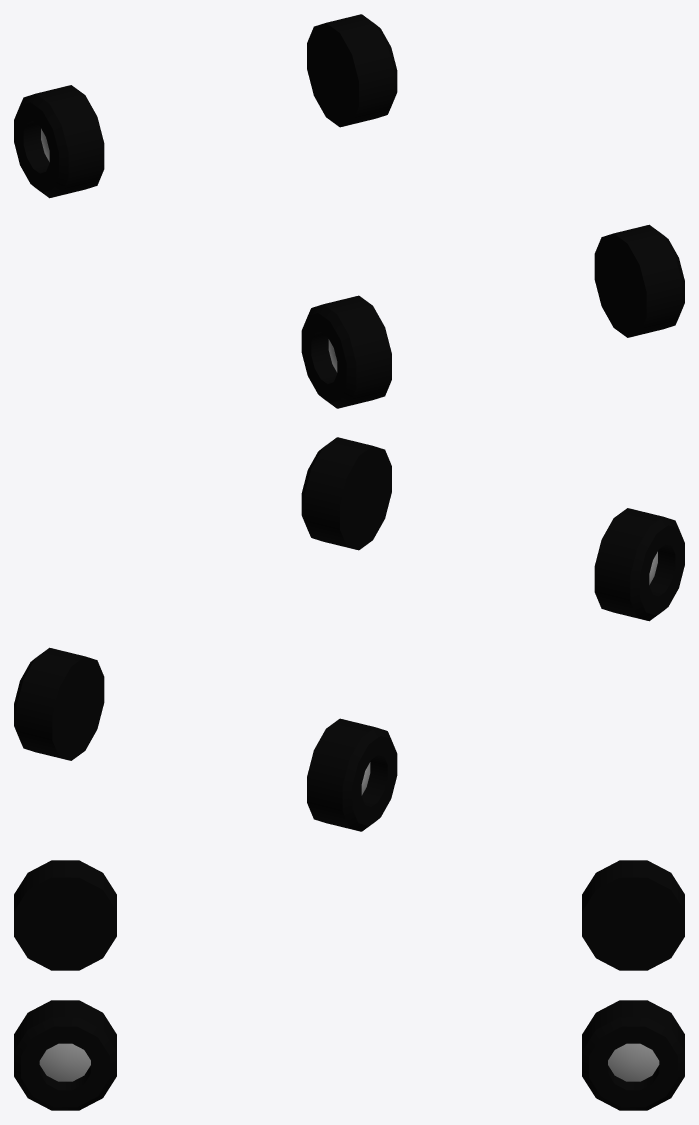
The model's file is car_wheel.gltf.
3 renders of one model, top to bottom at view 1: azimuth 30°, elevation 25°; view 2: azimuth 150°, elevation 25°; view 3: azimuth 270°, elevation 25°, orthographic.
Parts seen in each view (by area): view 1: wheels; view 2: wheels; view 3: wheels.
Part boxes in pixels (x1,y1,x2,y2): wheels: (14, 14, 684, 408); wheels: (14, 437, 684, 831); wheels: (14, 860, 684, 1110).
Bounding box in the file's own units: 0.9721 × 0.2593 × 1.69.
1 material, 1 textured.
